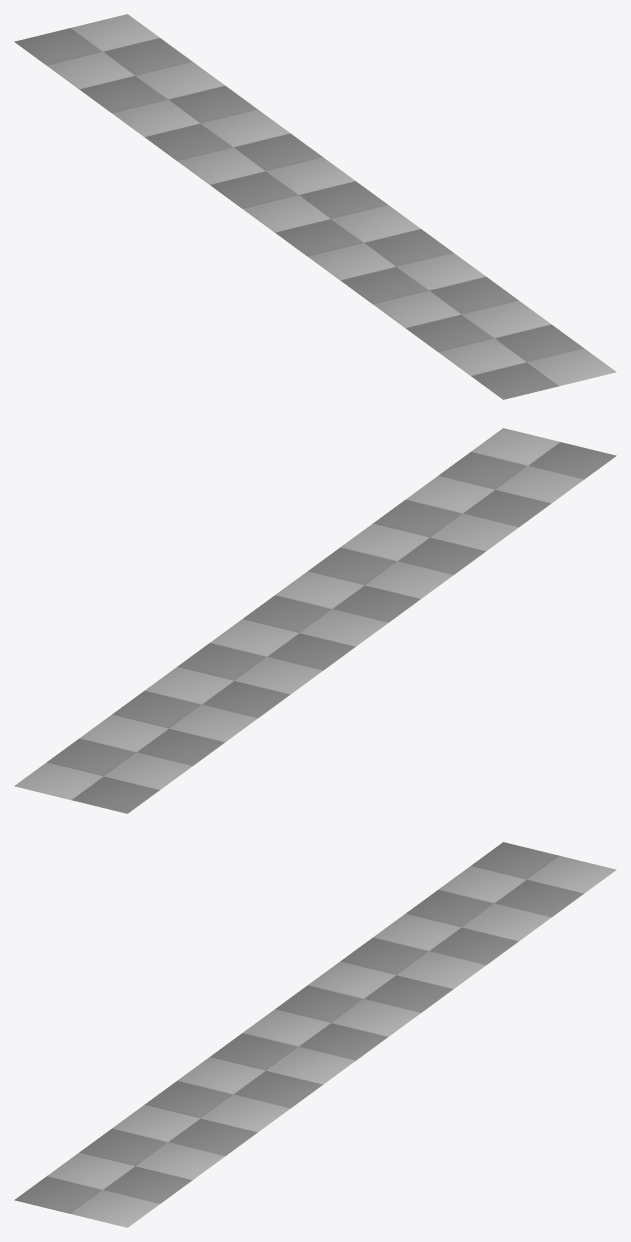
File: white.glb
3 views of the same model, one above another, from view 1: azimuth 30°, elevation 25°; view 2: azimuth 150°, elevation 25°; view 3: azimuth 330°, elevation 25° (orthographic).
Parts seen in each view (by area): view 1: Plane.060; view 2: Plane.060; view 3: Plane.060.
Boxes of the visible parts, <box> form: Plane.060: <box>14,14,616,399</box>; Plane.060: <box>14,428,616,813</box>; Plane.060: <box>14,842,616,1227</box>.
Bounding box in the file's own units: 2.29 × 0.00982 × 17.07.
Materials: 1 (1 with a texture image).
